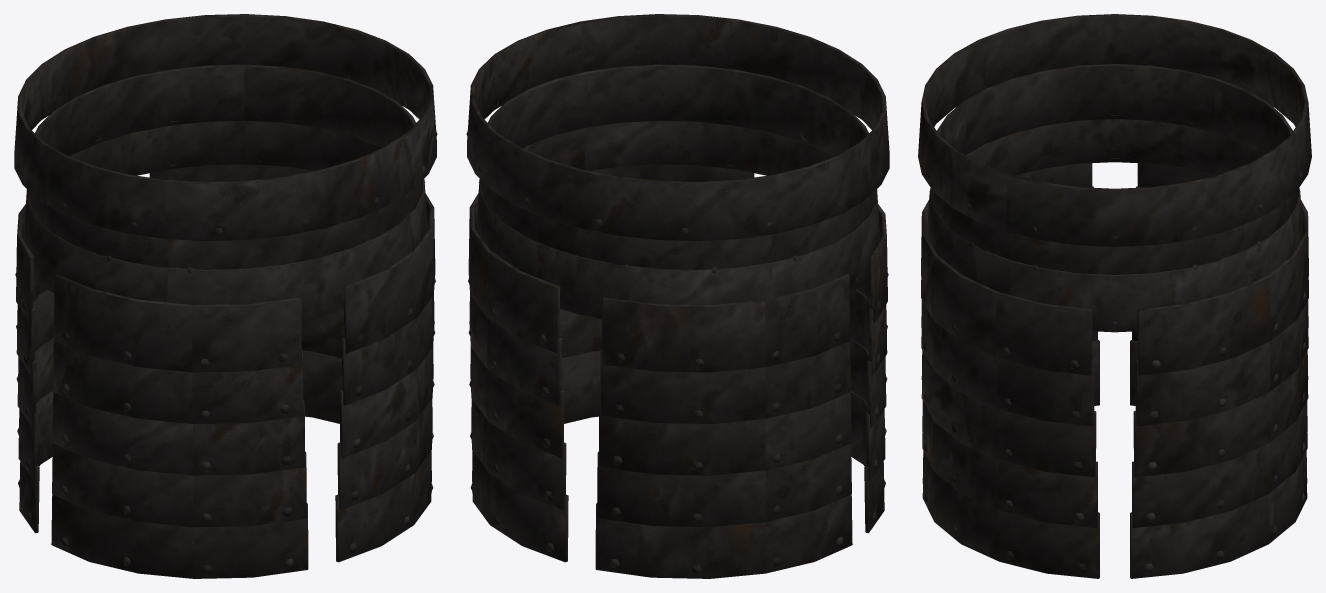
Rendered from fauld-proc-v2.glb.
3 renders of one model, left to right at view 1: azimuth 30°, elevation 25°; view 2: azimuth 150°, elevation 25°; view 3: azimuth 270°, elevation 25°, orthographic.
Parts seen in each view (by area): view 1: fauld; view 2: fauld; view 3: fauld.
Boxes of the visible parts, left/top/right/bottom form: fauld: left=14, top=14, right=437, bottom=578; fauld: left=466, top=14, right=889, bottom=578; fauld: left=918, top=14, right=1311, bottom=578.
Bounding box in the file's own units: 0.4152 × 0.4202 × 0.3849.
1 material, 1 textured.
